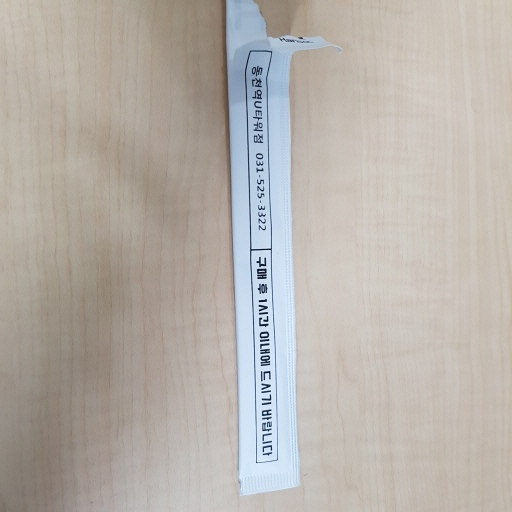Paper_2: (233, 55, 311, 505)
